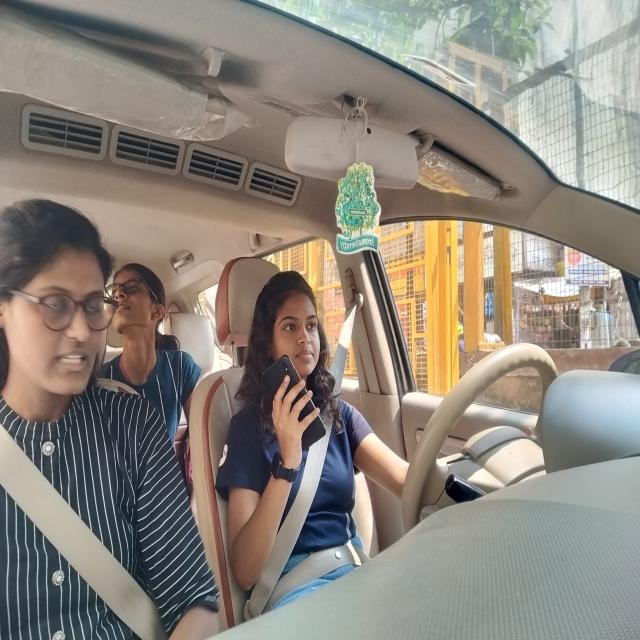mobile: (260, 354, 328, 458)
person: (0, 199, 119, 406), (251, 267, 331, 384), (112, 262, 168, 342)
